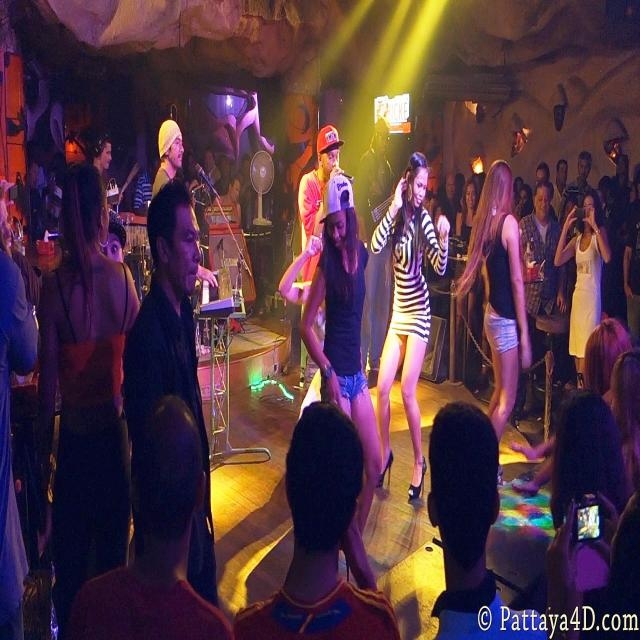body: (29, 155, 145, 639), (230, 390, 410, 640), (120, 172, 220, 608), (71, 386, 239, 640), (540, 312, 640, 639), (300, 175, 384, 539), (366, 148, 451, 506), (426, 400, 549, 640), (452, 154, 534, 493), (0, 155, 53, 640), (423, 146, 640, 236), (510, 174, 570, 428), (298, 123, 348, 414), (151, 117, 220, 294), (553, 185, 612, 390), (132, 144, 245, 229), (278, 230, 327, 393), (453, 174, 478, 384), (597, 236, 640, 312), (469, 274, 491, 394), (508, 434, 540, 508), (90, 126, 114, 187), (559, 236, 578, 312), (103, 207, 127, 264)
